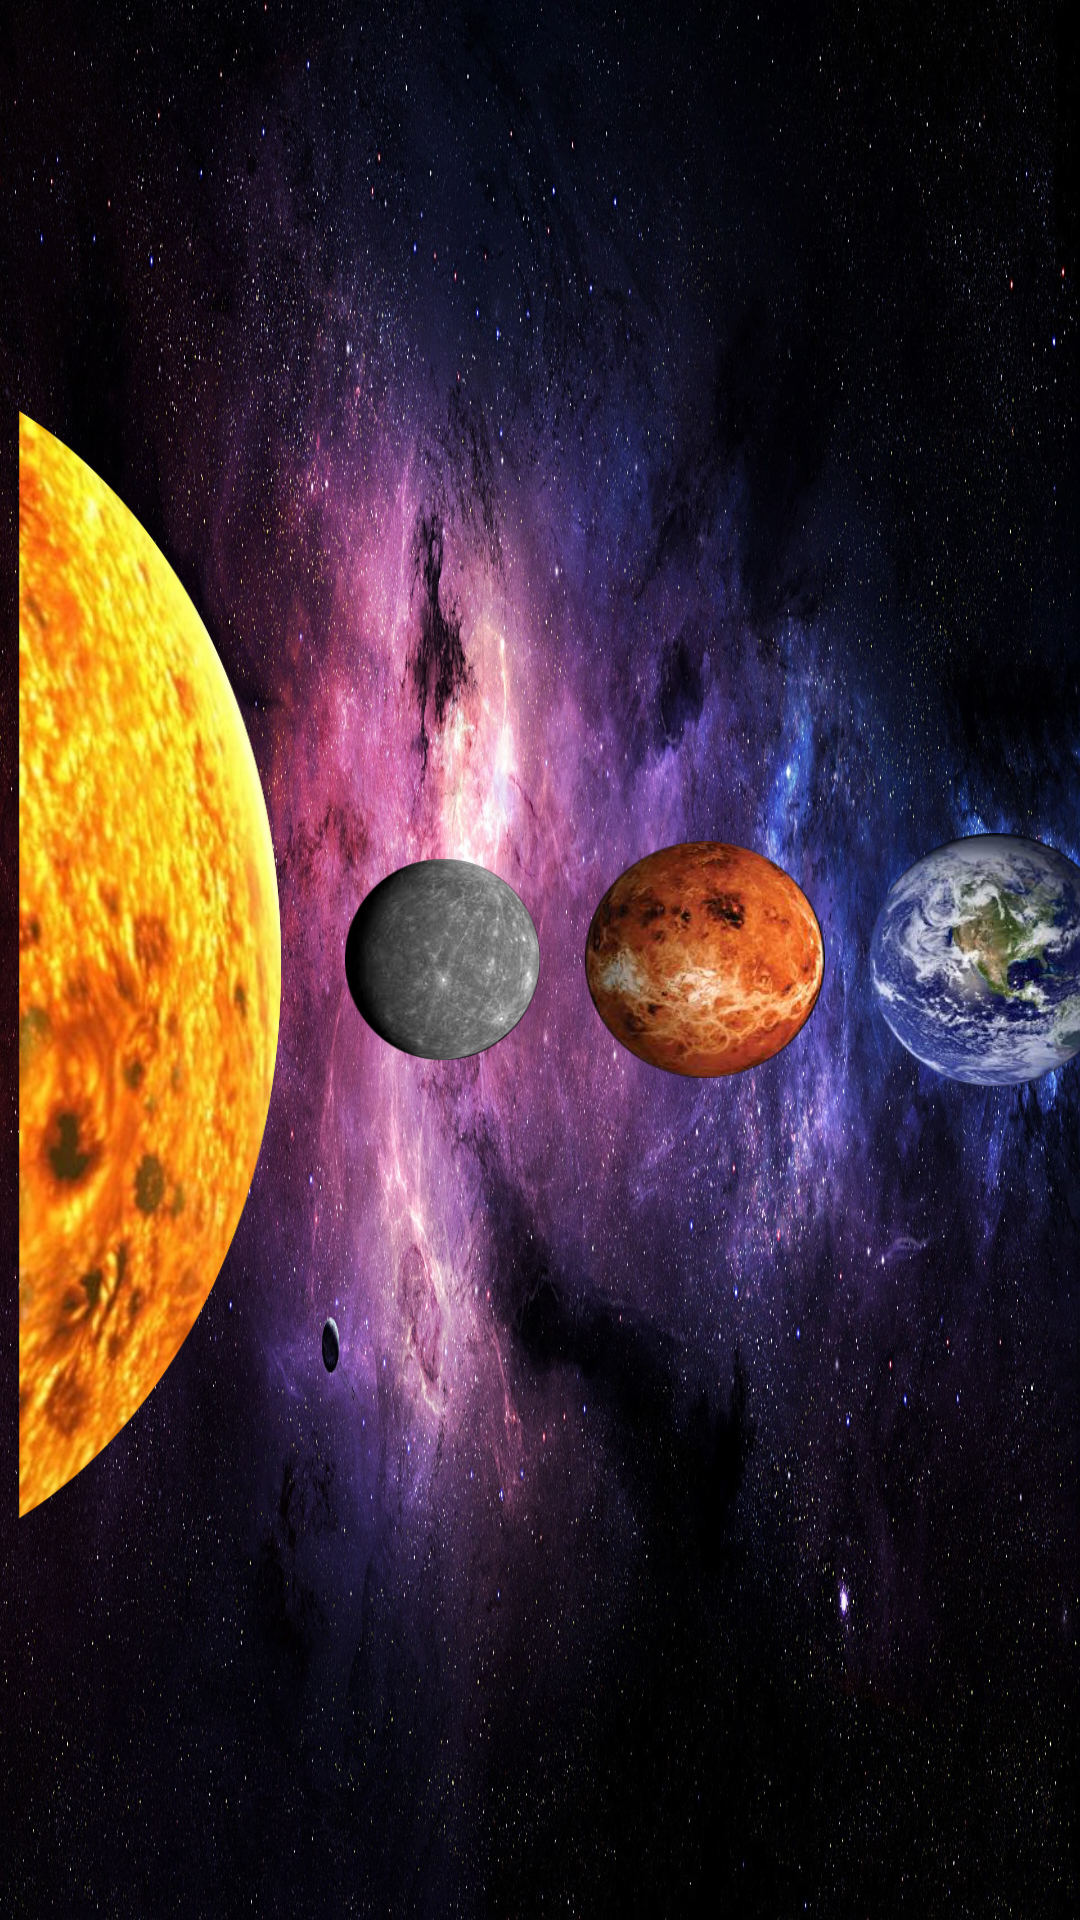

Screen size 1080 × 1920. Icon name, then its center in pixels as (x=x, y=y):
saothuy: (x=442, y=959)
venus: (x=705, y=959)
